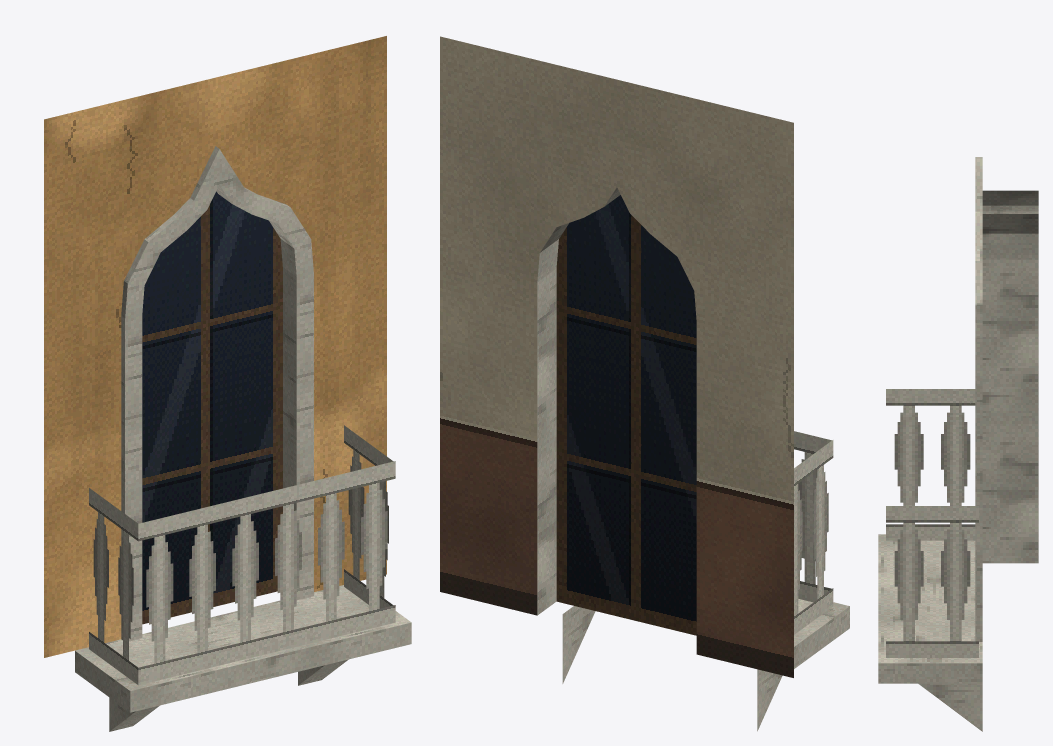
File: ext_balcony.gltf
The picture shows the model from 3 angles, left to right: view 1: azimuth 30°, elevation 25°; view 2: azimuth 150°, elevation 25°; view 3: azimuth 270°, elevation 25°; orthographic projection. The views are drawn at different scales.
Parts seen in each view (by area): view 1: ext_balcony; view 2: ext_balcony; view 3: ext_balcony.
Boxes of the visible parts, bbox=[...] form: ext_balcony: bbox=[44, 36, 411, 731]; ext_balcony: bbox=[440, 36, 849, 731]; ext_balcony: bbox=[878, 157, 1038, 731].
Size of what is drawn, in the model's own units: 2 by 3.5 by 0.86.
Materials: 5 (5 with a texture image).
